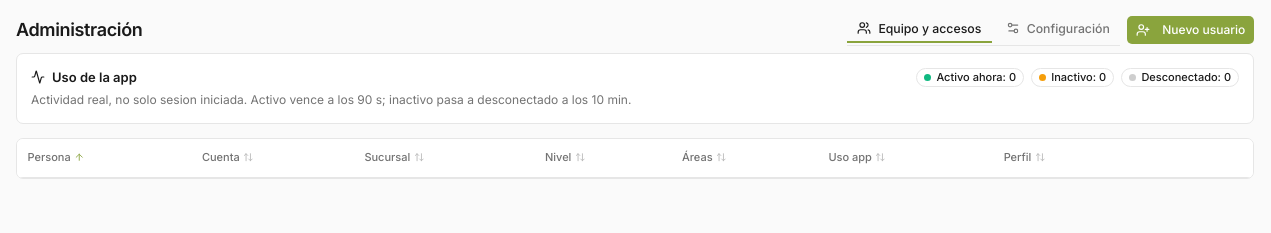
Test case: Administración: alta de operativos sin acceso › shows the persisted goal, saves it and invalidates productivity
The image size is (1271, 233).
Later steps or results of the test are not shown.
Press the mouse on the tab "Configuración" at (1058, 29), box [995,15,1120,43]
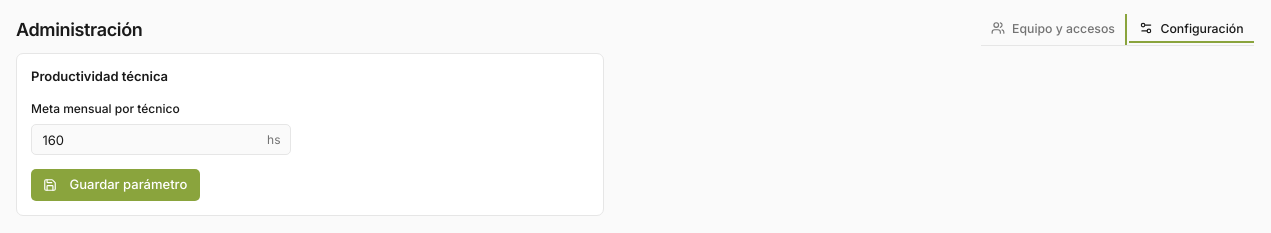
Now the number field labelled "Meta mensual por técnico" holds "160", box [31,124,291,155]
